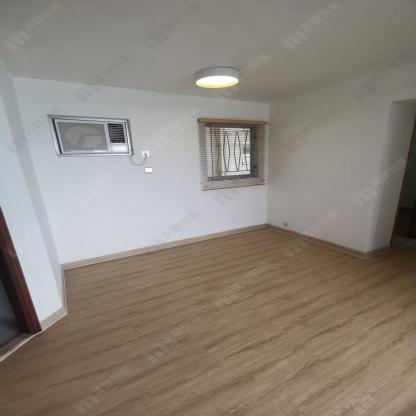AC: (53, 118, 130, 155)
